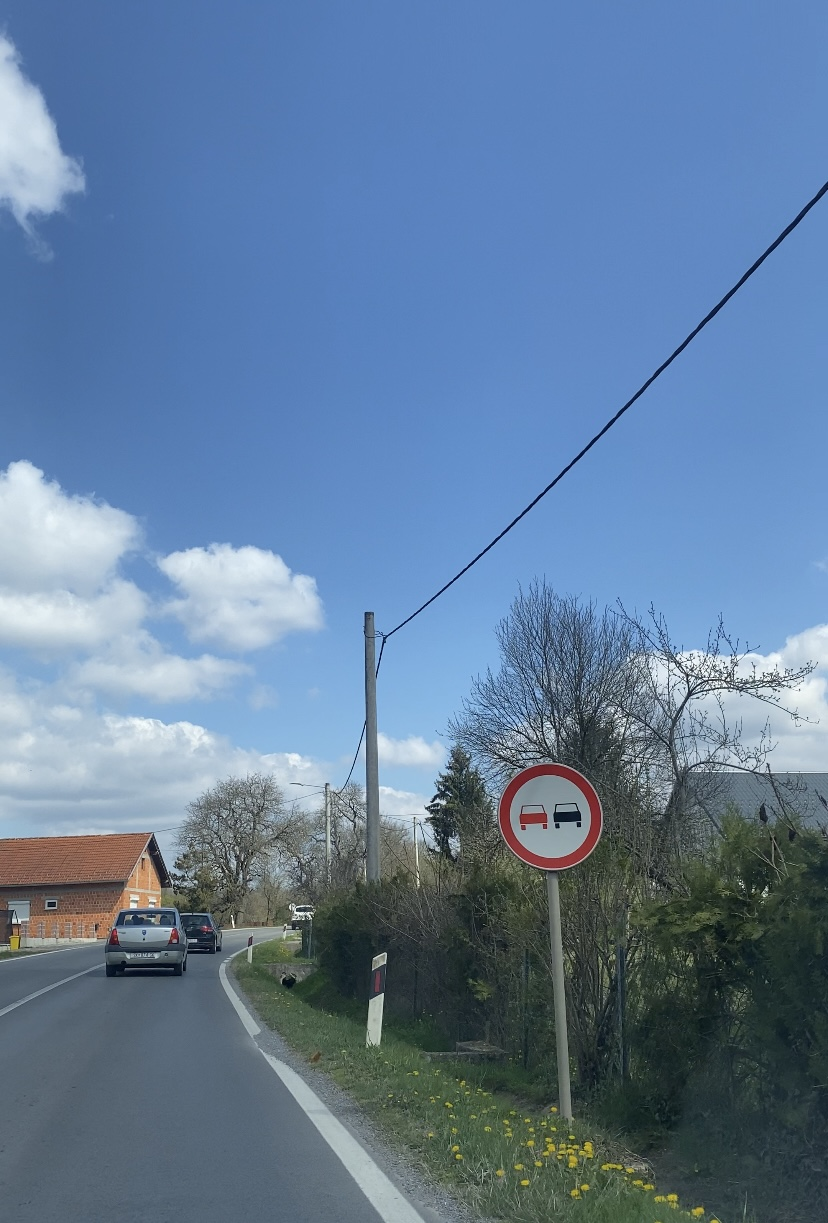Zabrana pretjecanja: (498, 763, 603, 869)
